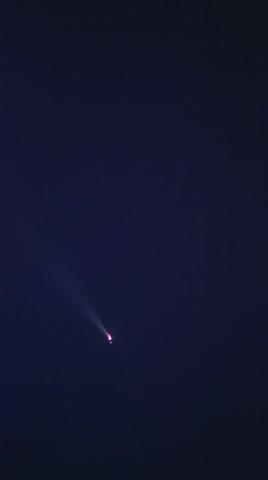Plane: (66, 282, 124, 360)
